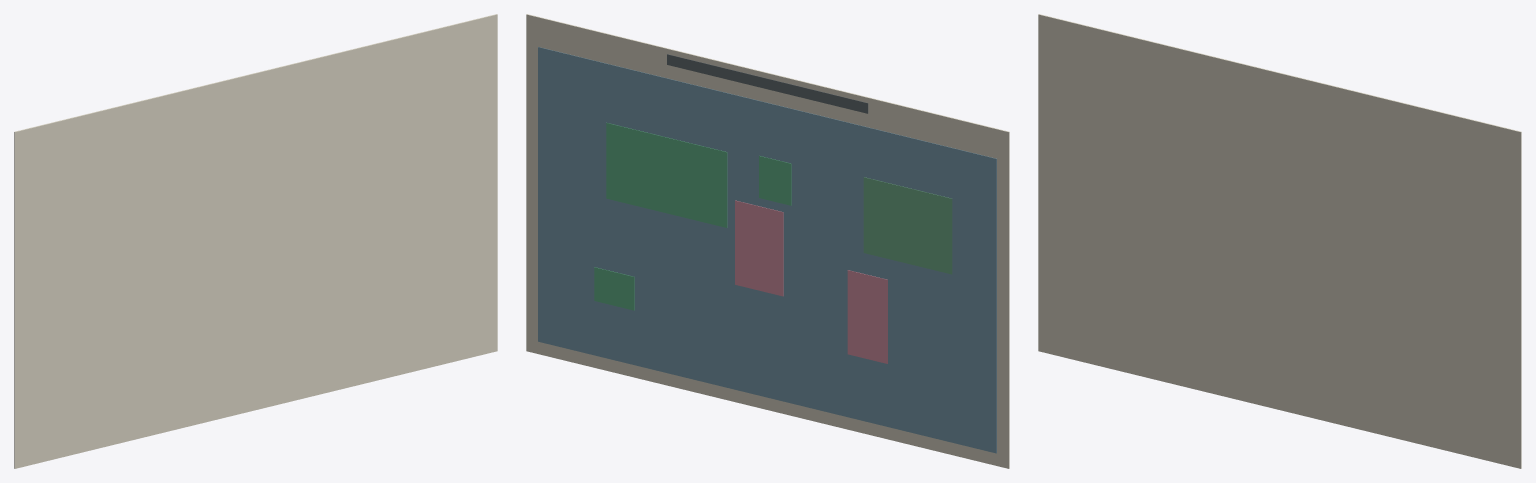
Rendered from world_map.fbx.
The picture shows the model from 3 angles, left to right: view 1: azimuth 30°, elevation 25°; view 2: azimuth 150°, elevation 25°; view 3: azimuth 330°, elevation 25°; orthographic projection.
Parts seen in each view (by area): view 1: world_map; view 2: world_map; view 3: world_map.
Boxes of the visible parts, x1,y1,x2,y2 form: world_map: (14,14,497,468); world_map: (526,14,1009,468); world_map: (1038,14,1521,468).
Bounding box in the file's own units: 120 × 80 × 0.5.
